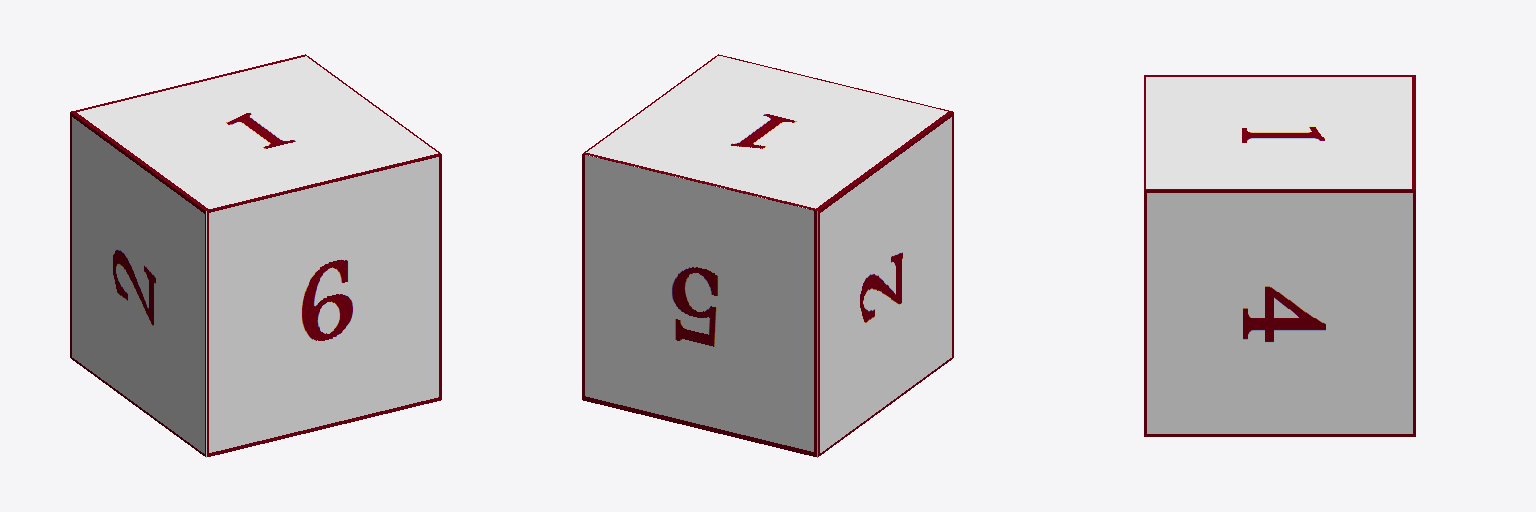
3 views of the same model, side by side, from view 1: azimuth 30°, elevation 25°; view 2: azimuth 150°, elevation 25°; view 3: azimuth 270°, elevation 25° (orthographic).
Visible parts, largest first — view 1: Cube; view 2: Cube; view 3: Cube.
Part boxes in pixels (x1,y1,x2,y2): Cube: (70,54,441,457); Cube: (582,54,953,457); Cube: (1144,75,1415,436).
Size of the model in its own units: 2 by 2 by 2.
Materials: 1 (1 with a texture image).